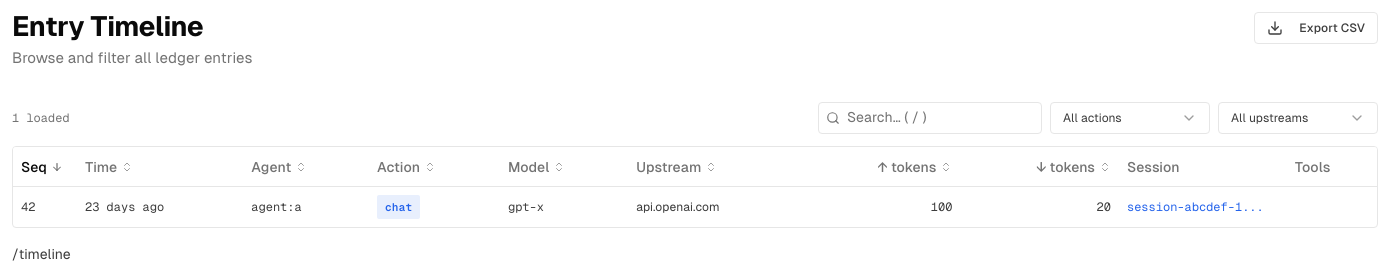
it: TimelinePage — rows › opens the entry dialog via ?entry= on row click
Click the text "42" at point(28, 207), box [13, 187, 77, 227]
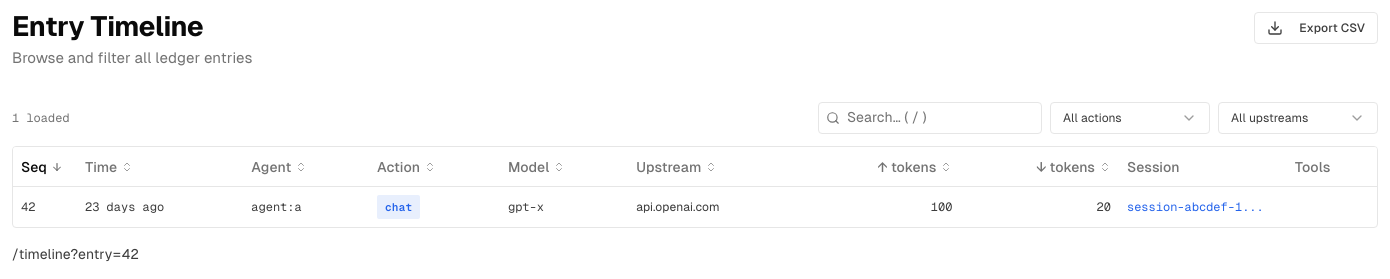
Expected: the text with test id "loc" reads "/timeline?entry=42", [12, 246, 139, 262]
